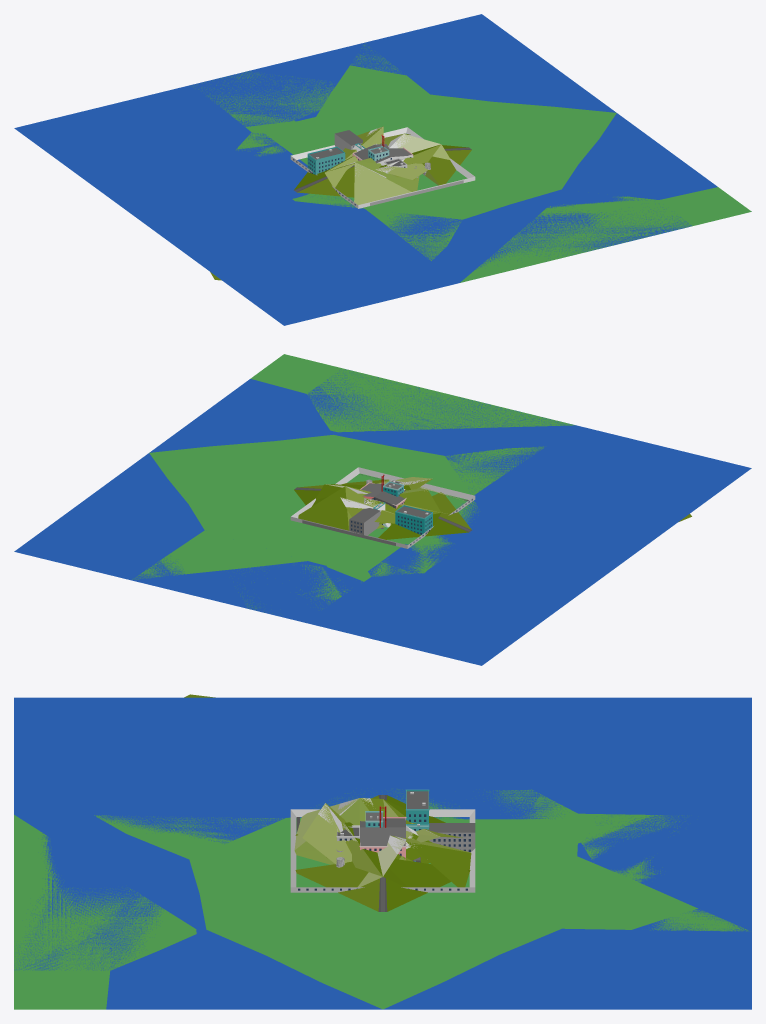
3 views of the same model, one above another, from view 1: azimuth 30°, elevation 25°; view 2: azimuth 150°, elevation 25°; view 3: azimuth 270°, elevation 25° (orthographic). The views are drawn at different scales.
Visible parts, largest first — view 1: ua_059_lod0, ua_058_lod0, ua_001_lod0, ua_060_lod0, ua_002_lod0, ua_061_lod0, ua_057_lod0, ua_003_lod0, ua_062_lod0_s1v0, ua_087_lod0, ua_070_lod0, ua_029_lod0 (+1 smaller); view 2: ua_058_lod0, ua_059_lod0, ua_001_lod0, ua_060_lod0, ua_002_lod0, ua_057_lod0, ua_061_lod0, ua_062_lod0_s1v0, ua_090_lod0, ua_087_lod0, ua_029_lod0, ua_003_lod0 (+1 smaller); view 3: ua_058_lod0, ua_059_lod0, ua_001_lod0, ua_060_lod0, ua_002_lod0, ua_057_lod0, ua_061_lod0, ua_070_lod0, ua_090_lod0, ua_029_lod0, ua_062_lod0_s1v0, ua_003_lod0 (+5 smaller).
Boxes of the visible parts, box(x1,y1,x2,y2) form: ua_059_lod0: box(16, 113, 717, 325); ua_058_lod0: box(260, 44, 751, 282); ua_001_lod0: box(14, 14, 582, 226); ua_060_lod0: box(183, 76, 616, 297); ua_002_lod0: box(190, 57, 582, 126); ua_061_lod0: box(193, 71, 364, 208); ua_057_lod0: box(15, 71, 246, 178); ua_003_lod0: box(317, 158, 419, 204); ua_062_lod0_s1v0: box(307, 130, 389, 174); ua_087_lod0: box(294, 165, 354, 197); ua_070_lod0: box(382, 134, 471, 185); ua_029_lod0: box(290, 127, 475, 208); ua_058_lod0: box(132, 354, 575, 579); ua_059_lod0: box(149, 369, 751, 664); ua_001_lod0: box(14, 478, 603, 665); ua_060_lod0: box(115, 440, 684, 573); ua_002_lod0: box(115, 477, 363, 622); ua_057_lod0: box(252, 592, 582, 664); ua_061_lod0: box(238, 501, 479, 613); ua_062_lod0_s1v0: box(349, 482, 432, 535); ua_090_lod0: box(298, 484, 391, 530); ua_087_lod0: box(378, 492, 471, 539); ua_029_lod0: box(290, 467, 475, 548); ua_003_lod0: box(391, 486, 463, 525); ua_058_lod0: box(14, 815, 748, 1009); ua_059_lod0: box(14, 697, 749, 1009); ua_001_lod0: box(363, 697, 751, 1009); ua_060_lod0: box(14, 697, 630, 1009); ua_002_lod0: box(444, 814, 751, 1009); ua_057_lod0: box(478, 697, 751, 851); ua_061_lod0: box(288, 789, 687, 884); ua_070_lod0: box(295, 806, 470, 911); ua_090_lod0: box(358, 835, 471, 887); ua_029_lod0: box(290, 809, 475, 892); ua_062_lod0_s1v0: box(365, 791, 475, 858); ua_003_lod0: box(294, 798, 420, 864).
Size of what is drawn, in the model's own units: 4139 by 288 by 4096.
